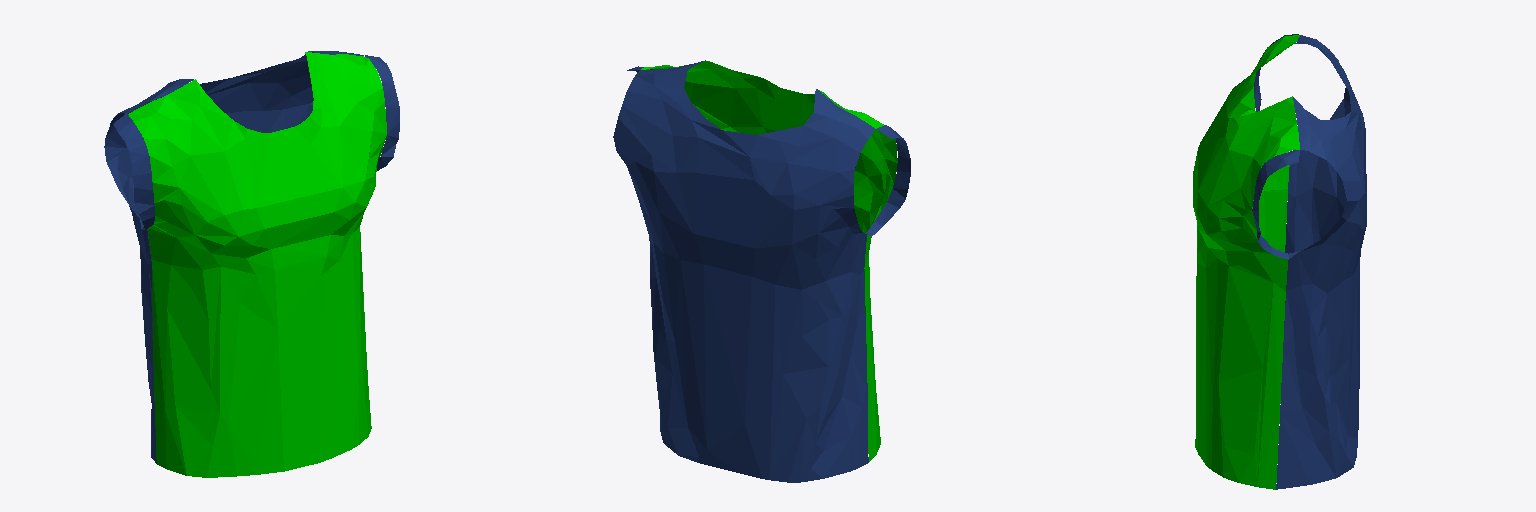
The picture shows the model from 3 angles: view 1: azimuth 30°, elevation 25°; view 2: azimuth 150°, elevation 25°; view 3: azimuth 270°, elevation 25°; orthographic projection.
Parts seen in each view (by area): view 1: T_shirt.004; view 2: T_shirt.004; view 3: T_shirt.004.
Boxes of the visible parts, box(x1,y1,x2,y2) form: T_shirt.004: box(104, 51, 399, 477); T_shirt.004: box(613, 60, 910, 482); T_shirt.004: box(1193, 34, 1366, 489).
Bounding box in the file's own units: 0.2935 × 0.3892 × 0.1639.
Materials: 2 (1 with a texture image).